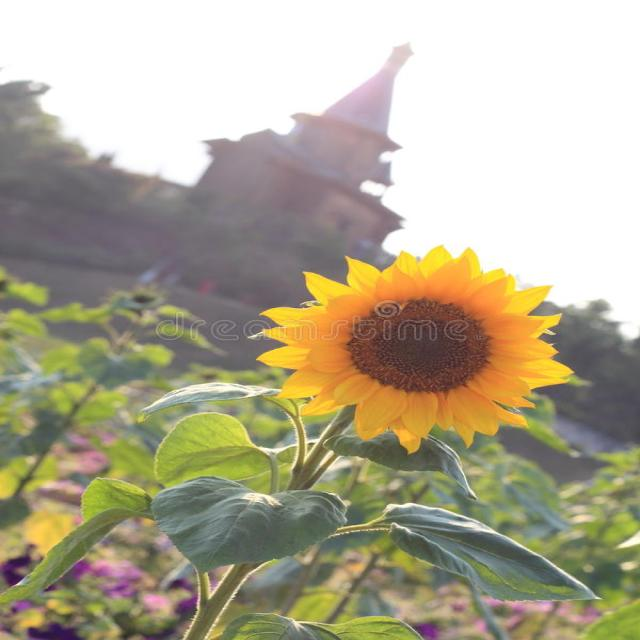sunflower: (250, 240, 581, 456)
